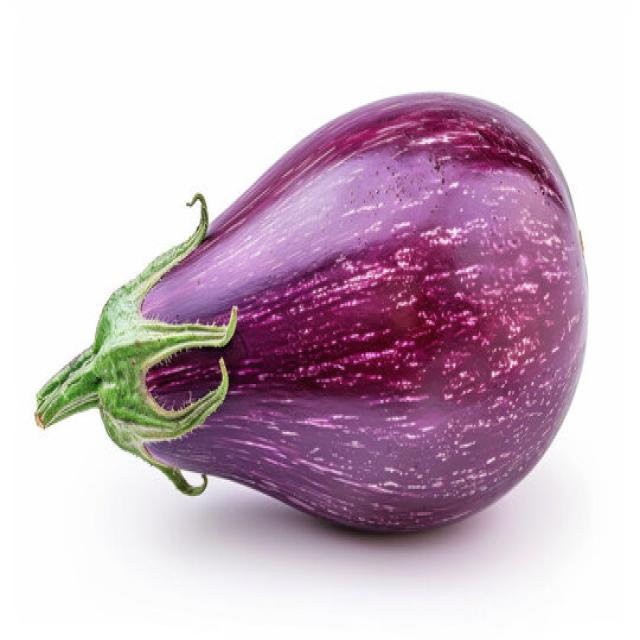Eggplant: (34, 87, 589, 535)
